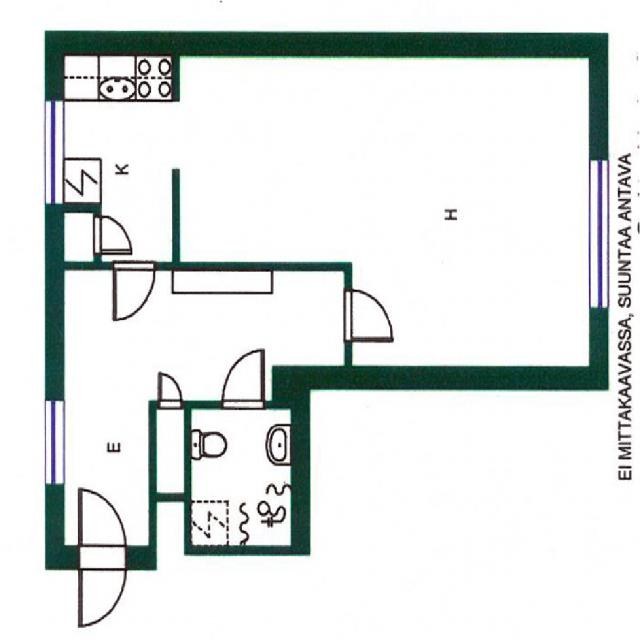door: (79, 546, 125, 627), (79, 490, 125, 570), (344, 291, 392, 341), (113, 262, 154, 320), (222, 351, 263, 408), (94, 216, 131, 254), (159, 374, 181, 409)
